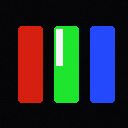4 line_v: (56, 29, 62, 65)
